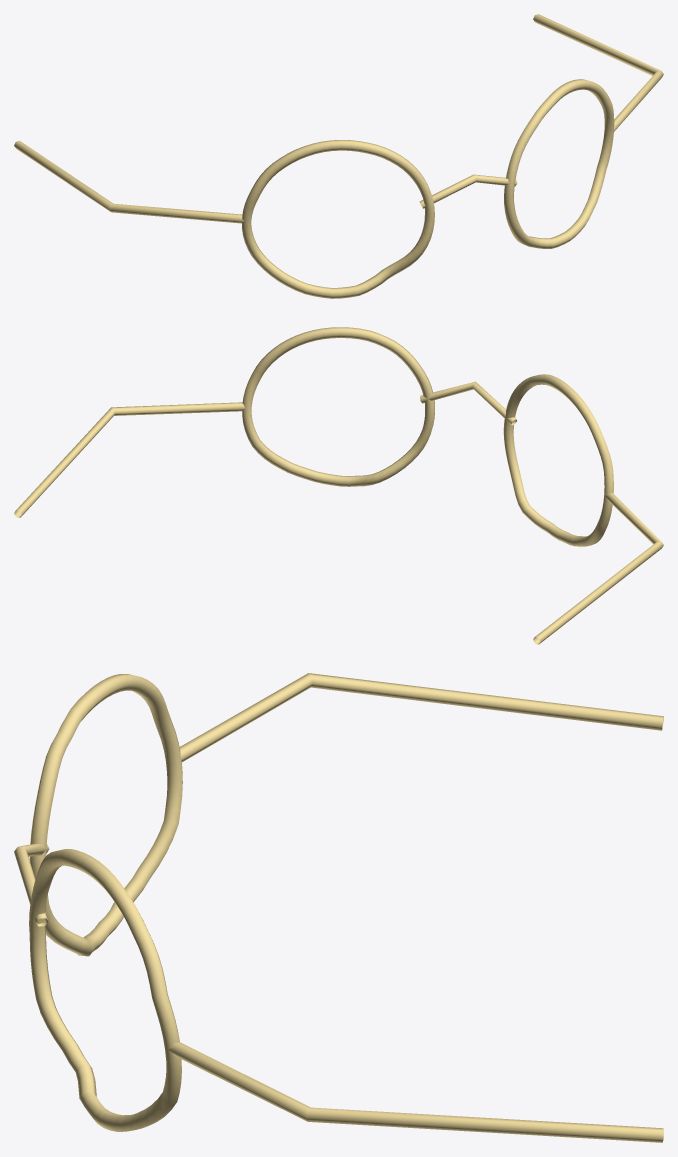
File: glasses_round_penguin_tailored.glb
3 views of the same model, one above another, from view 1: azimuth 30°, elevation 25°; view 2: azimuth 150°, elevation 25°; view 3: azimuth 270°, elevation 25° (orthographic). The views are drawn at different scales.
Parts seen in each view (by area): view 1: Montura.002, Montura.003, Patilla curva.002, Patilla curva.003, Puente nasal.001; view 2: Montura.003, Montura.002, Patilla curva.003, Patilla curva.002, Puente nasal.001; view 3: Montura.003, Montura.002, Patilla curva.003, Patilla curva.002, Puente nasal.001.
Part boxes in pixels (x1,y1,x2,y2): Montura.002: [242, 140, 434, 298]; Montura.003: [504, 79, 614, 248]; Patilla curva.002: [14, 140, 244, 223]; Patilla curva.003: [533, 14, 663, 131]; Puente nasal.001: [419, 174, 517, 208]; Montura.003: [242, 327, 434, 486]; Montura.002: [503, 374, 613, 546]; Patilla curva.003: [14, 402, 245, 517]; Patilla curva.002: [533, 493, 663, 644]; Puente nasal.001: [420, 381, 516, 425]; Montura.003: [29, 849, 181, 1131]; Montura.002: [29, 674, 182, 956]; Patilla curva.003: [168, 1042, 663, 1142]; Patilla curva.002: [179, 673, 663, 762]; Puente nasal.001: [14, 843, 49, 926].
Size of the model in its own units: 0.7071 by 0.1914 by 0.4413.
